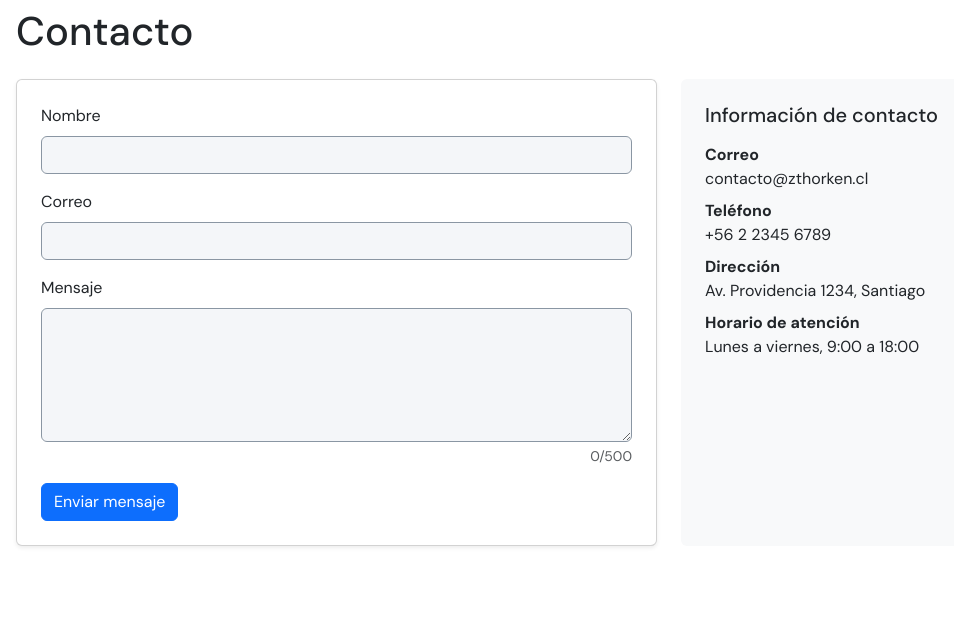
Test case: Contacto › muestra errores si se envía vacío
Click the button "Enviar mensaje" at (110, 502), box top-left (41, 483), bottom-right (178, 521)
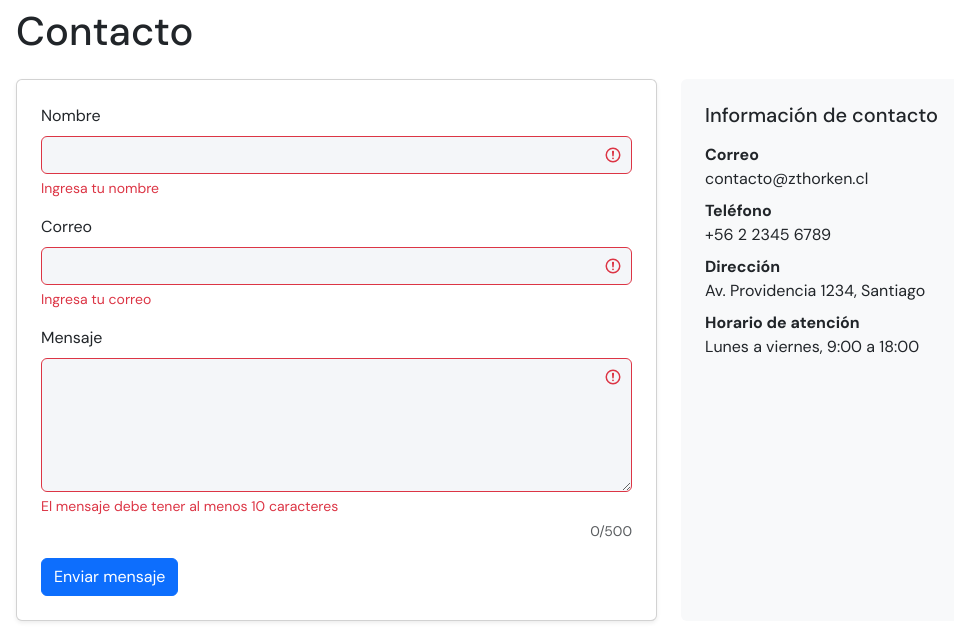
Check: the text "Ingresa tu nombre" is shown, box top-left (41, 179), bottom-right (159, 197)
Check: the text "Ingresa tu correo" is shown, box top-left (41, 290), bottom-right (151, 308)
Check: the text "El mensaje debe tener al menos 10 caracteres" is shown, box top-left (41, 497), bottom-right (338, 515)
